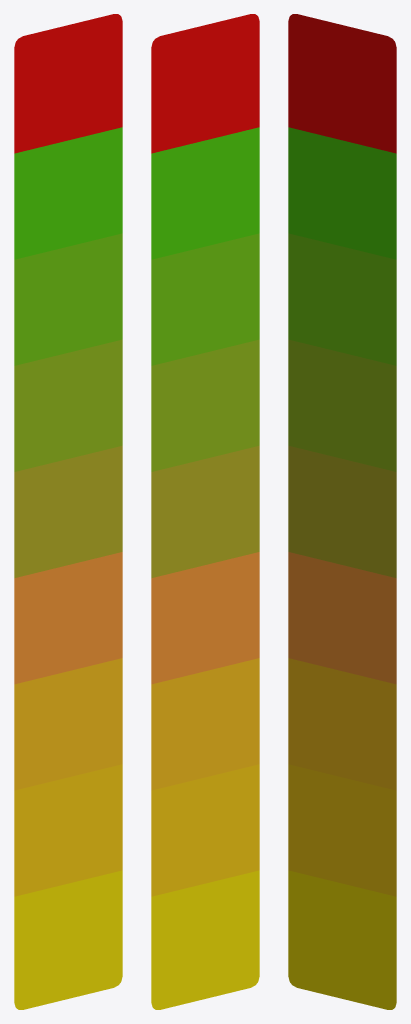
File: colors shade.fbx
3 views of the same model, side by side, from view 1: azimuth 30°, elevation 25°; view 2: azimuth 210°, elevation 25°; view 3: azimuth 330°, elevation 25° (orthographic).
Parts seen in each view (by area): view 1: shade; view 2: shade; view 3: shade.
Part boxes in pixels (box(x1,y1,x2,y2)): shade: box(14, 14, 122, 1009); shade: box(151, 14, 259, 1009); shade: box(288, 14, 396, 1009).
Bounding box in the file's own units: 172 × 1479 × 0.000241.
